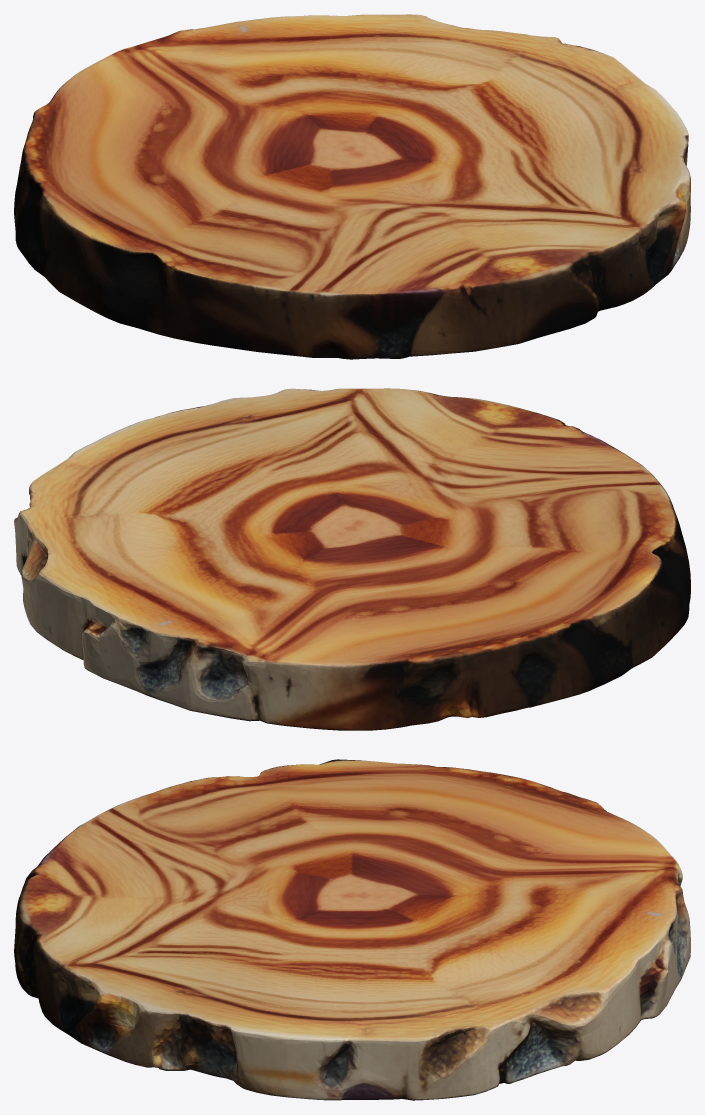
Rendered from wooden-wireless-charger-rustic.jpeg.glb.
3 renders of one model, top to bottom at view 1: azimuth 30°, elevation 25°; view 2: azimuth 150°, elevation 25°; view 3: azimuth 270°, elevation 25°, orthographic.
Parts seen in each view (by area): view 1: world; view 2: world; view 3: world.
Part boxes in pixels (bbox=[...]): world: bbox=[14, 14, 690, 359]; world: bbox=[14, 388, 690, 730]; world: bbox=[14, 759, 690, 1100].
Size of the model in its own units: 0.9973 by 0.1099 by 0.9977.
1 material, 1 textured.
